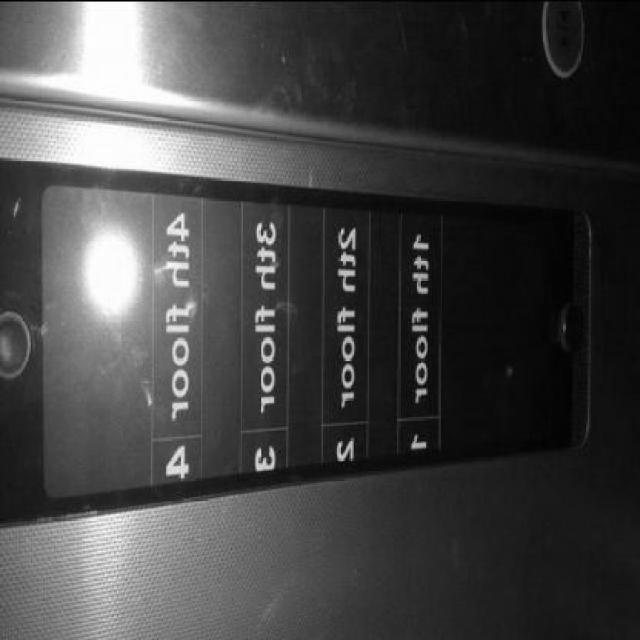fake: (0, 153, 598, 532)
